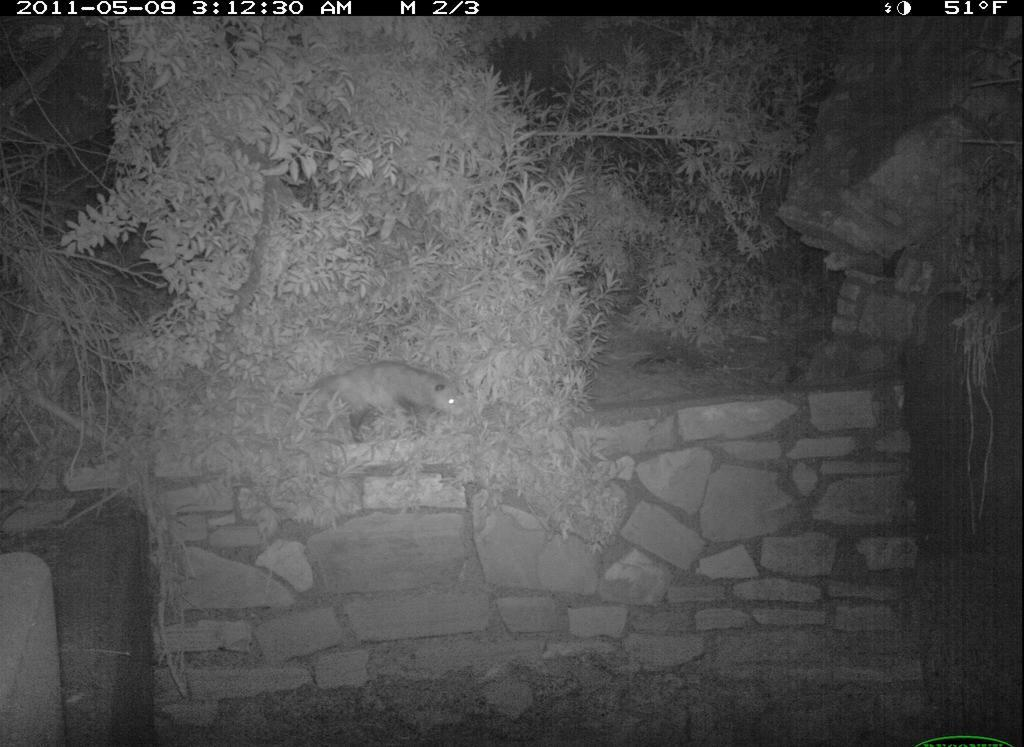opossum: (280, 350, 479, 457)
